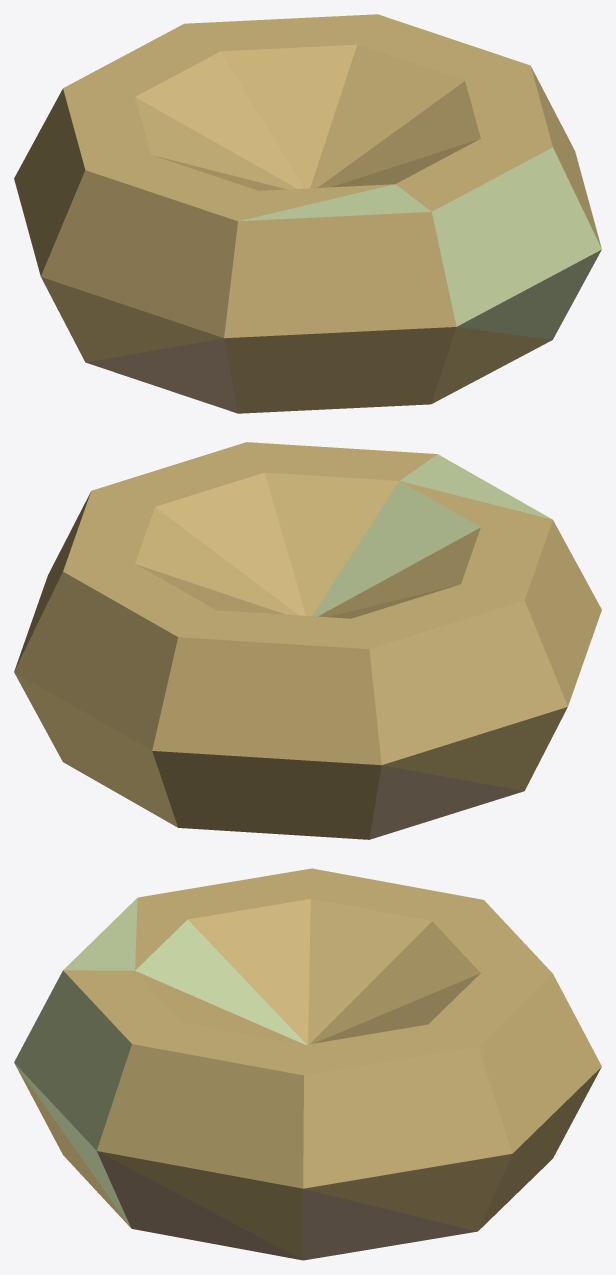
3 renders of one model, top to bottom at view 1: azimuth 30°, elevation 25°; view 2: azimuth 150°, elevation 25°; view 3: azimuth 270°, elevation 25°, orthographic. The views are drawn at different scales.
Visible parts, largest first — view 1: model; view 2: model; view 3: model.
Boxes of the visible parts, left/top/right/bottom form: model: left=14, top=14, right=601, bottom=413; model: left=14, top=442, right=601, bottom=839; model: left=14, top=868, right=601, bottom=1260.
Size of the model in its own units: 0.252 by 0.0875 by 0.252.
